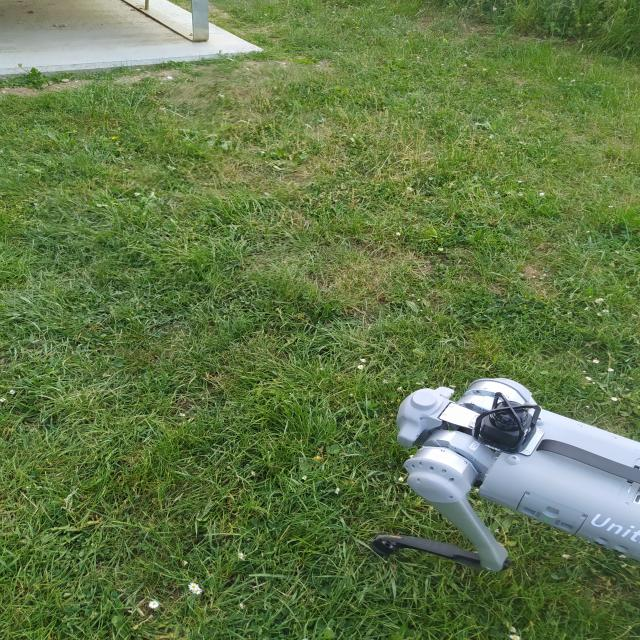unitree-go1-robot: (367, 366, 640, 594)
